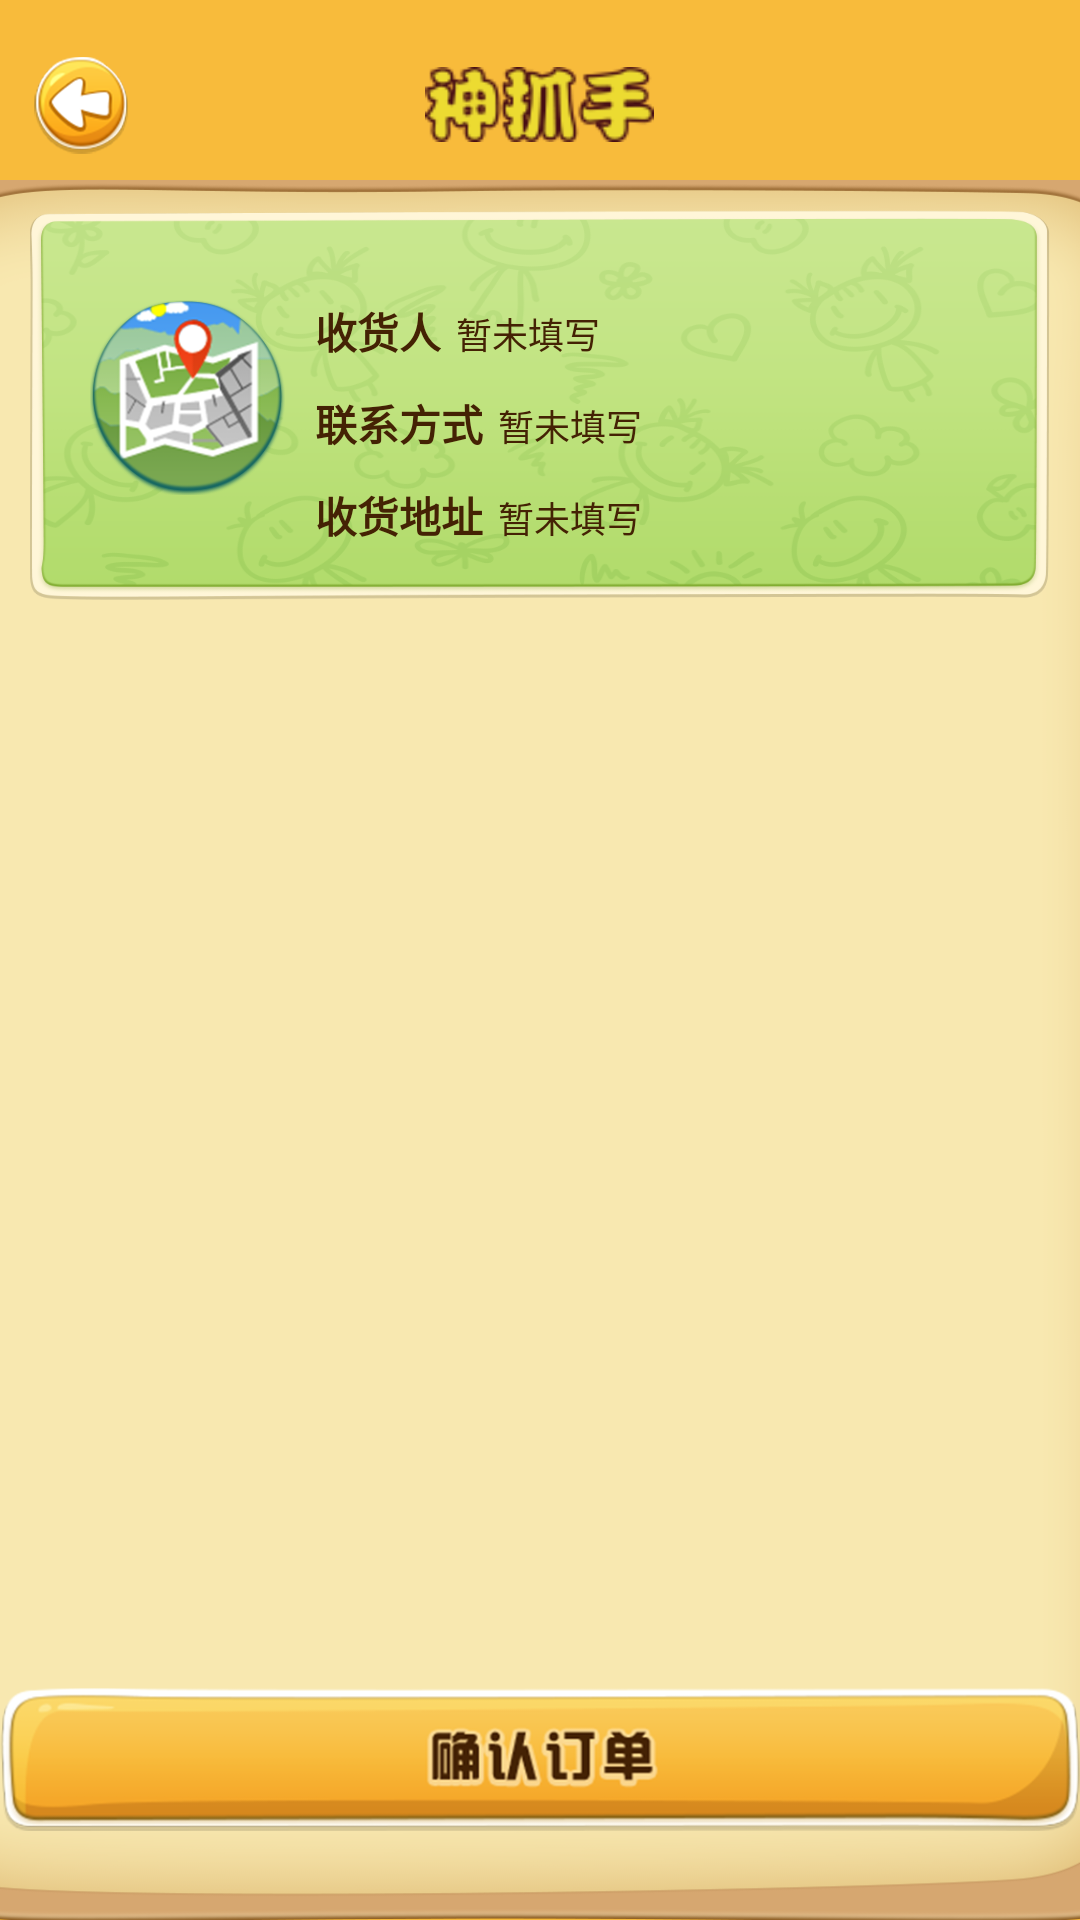

Where to tap for icons on this 1080 × 1920 app screen, as (x=x, y=y):
player back: (x=81, y=105)
